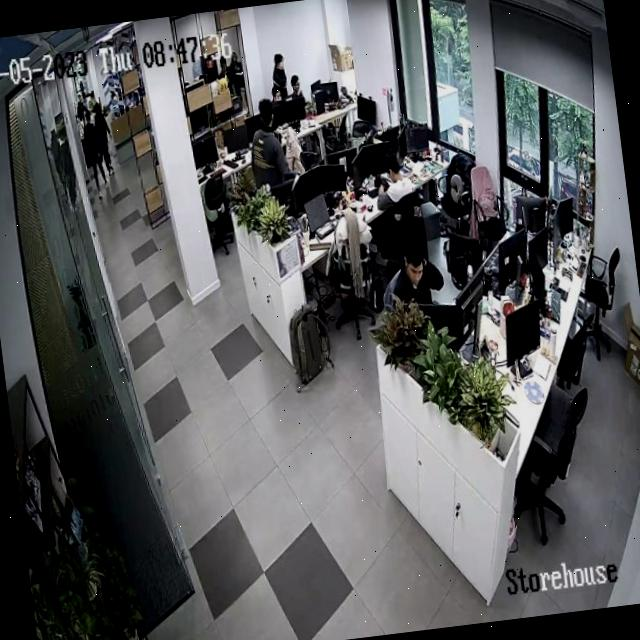person: (245, 99, 294, 191), (384, 239, 445, 311), (372, 152, 422, 224), (267, 53, 291, 103), (287, 71, 307, 109)
